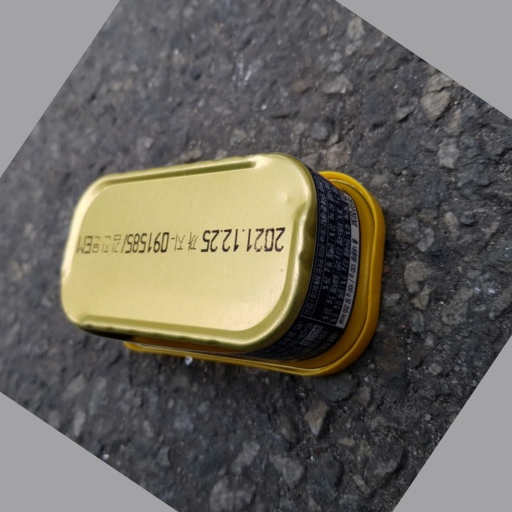Metal_2: (54, 152, 385, 377)
